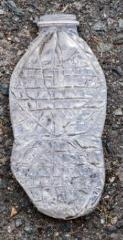plastic: (8, 12, 108, 220)
